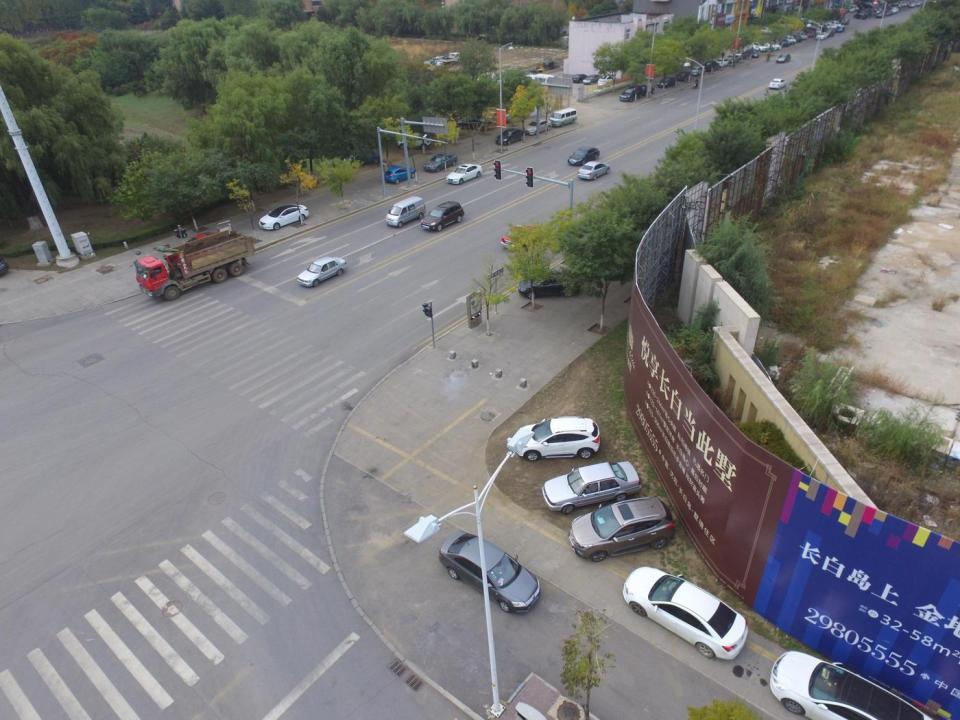car: (616, 563, 753, 662), (771, 650, 930, 720), (438, 532, 544, 617), (567, 498, 674, 563), (544, 461, 640, 516), (512, 416, 598, 463), (517, 270, 582, 300), (294, 256, 346, 288), (499, 221, 547, 254), (420, 202, 468, 232), (258, 204, 309, 230), (446, 164, 483, 186), (338, 150, 380, 168), (567, 146, 601, 168), (422, 153, 459, 172), (398, 131, 433, 150), (452, 112, 487, 131), (382, 165, 416, 184), (576, 162, 610, 180), (476, 107, 511, 122), (523, 118, 550, 137), (496, 127, 524, 145), (619, 85, 643, 103), (768, 77, 787, 91), (636, 83, 654, 97), (752, 40, 768, 53), (786, 32, 803, 44), (583, 74, 603, 84), (598, 75, 616, 86), (674, 71, 692, 82), (657, 78, 676, 88), (571, 73, 588, 84), (690, 65, 706, 76), (702, 60, 718, 71), (791, 30, 807, 41), (780, 34, 796, 44), (766, 38, 779, 50), (777, 36, 790, 48), (778, 53, 791, 64), (716, 57, 729, 68), (747, 47, 760, 58), (735, 49, 748, 60), (758, 26, 774, 34), (816, 33, 828, 40)
truck: (132, 229, 256, 301), (437, 52, 463, 66)
van: (386, 195, 425, 227), (550, 108, 577, 130)
